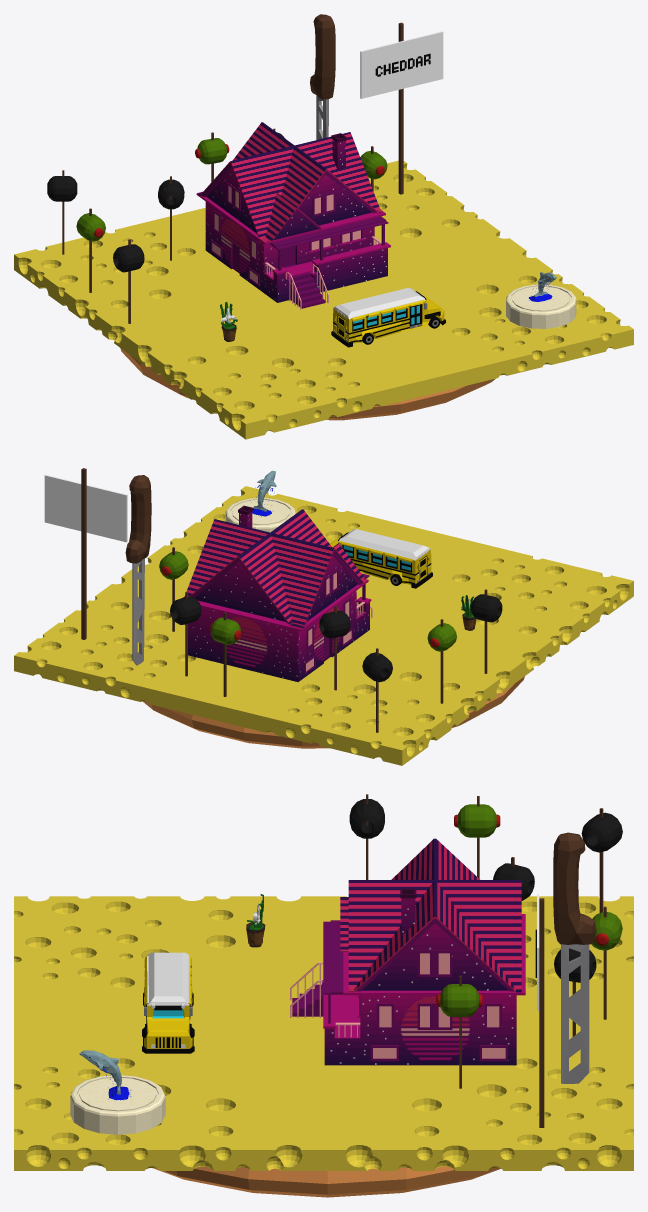
3 views of the same model, one above another, from view 1: azimuth 30°, elevation 25°; view 2: azimuth 150°, elevation 25°; view 3: azimuth 270°, elevation 25° (orthographic). The views are drawn at different scales.
Visible parts, largest first — view 1: Cube.022, Cube.156, Cube.023, VEHICLES_SCHOOL_BUS, Cylinder.016, Cube.024, UNDERGROUND_PIZZA, Sphere.017, Sphere.016, Sphere.018, Sphere.022, Sphere.020 (+1 smaller); view 2: Cube.022, Cube.156, Cube.023, VEHICLES_SCHOOL_BUS, Cube.024, UNDERGROUND_PIZZA, Cylinder.016, Sphere.017, Sphere.022, Sphere.020, Sphere.021, Sphere.018 (+3 smaller); view 3: Cube.022, Cube.156, Cube.024, UNDERGROUND_PIZZA, VEHICLES_SCHOOL_BUS, Cylinder.016, Cube.023, Sphere.016, Sphere.019, Sphere.018, Sphere.017, Sphere.022 (+4 smaller).
Part boxes in pixels (bbox=[...]): Cube.022: bbox=[14, 160, 633, 439]; Cube.156: bbox=[196, 122, 390, 309]; Cube.023: bbox=[360, 22, 443, 194]; VEHICLES_SCHOOL_BUS: bbox=[331, 288, 445, 347]; Cylinder.016: bbox=[506, 284, 576, 328]; Cube.024: bbox=[310, 14, 335, 139]; UNDERGROUND_PIZZA: bbox=[120, 348, 495, 420]; Sphere.017: bbox=[113, 239, 144, 323]; Sphere.016: bbox=[47, 170, 77, 254]; Sphere.018: bbox=[76, 208, 105, 292]; Sphere.022: bbox=[195, 132, 229, 181]; Sphere.020: bbox=[158, 176, 184, 260]; Cube.022: bbox=[14, 486, 633, 765]; Cube.156: bbox=[183, 505, 372, 681]; Cube.023: bbox=[44, 468, 127, 639]; VEHICLES_SCHOOL_BUS: bbox=[330, 529, 432, 588]; Cube.024: bbox=[125, 475, 151, 665]; UNDERGROUND_PIZZA: bbox=[143, 676, 524, 748]; Cylinder.016: bbox=[225, 498, 295, 532]; Sphere.017: bbox=[471, 589, 502, 673]; Sphere.022: bbox=[210, 612, 241, 696]; Sphere.020: bbox=[319, 606, 350, 690]; Sphere.021: bbox=[170, 592, 201, 676]; Sphere.018: bbox=[427, 619, 456, 703]; Cube.022: bbox=[14, 896, 633, 1170]; Cube.156: bbox=[290, 838, 525, 1065]; Cube.024: bbox=[553, 832, 596, 1083]; UNDERGROUND_PIZZA: bbox=[152, 1166, 500, 1197]; VEHICLES_SCHOOL_BUS: bbox=[142, 952, 194, 1053]; Cylinder.016: bbox=[70, 1075, 165, 1134]; Cube.023: bbox=[535, 894, 544, 1127]; Sphere.016: bbox=[581, 808, 622, 912]; Sphere.019: bbox=[436, 975, 482, 1088]; Sphere.018: bbox=[454, 796, 500, 878]; Sphere.017: bbox=[349, 794, 384, 879]; Sphere.022: bbox=[591, 906, 622, 1019].
Size of the model in its own units: 3917 by 2219 by 4000.
43 materials, 5 textured.
